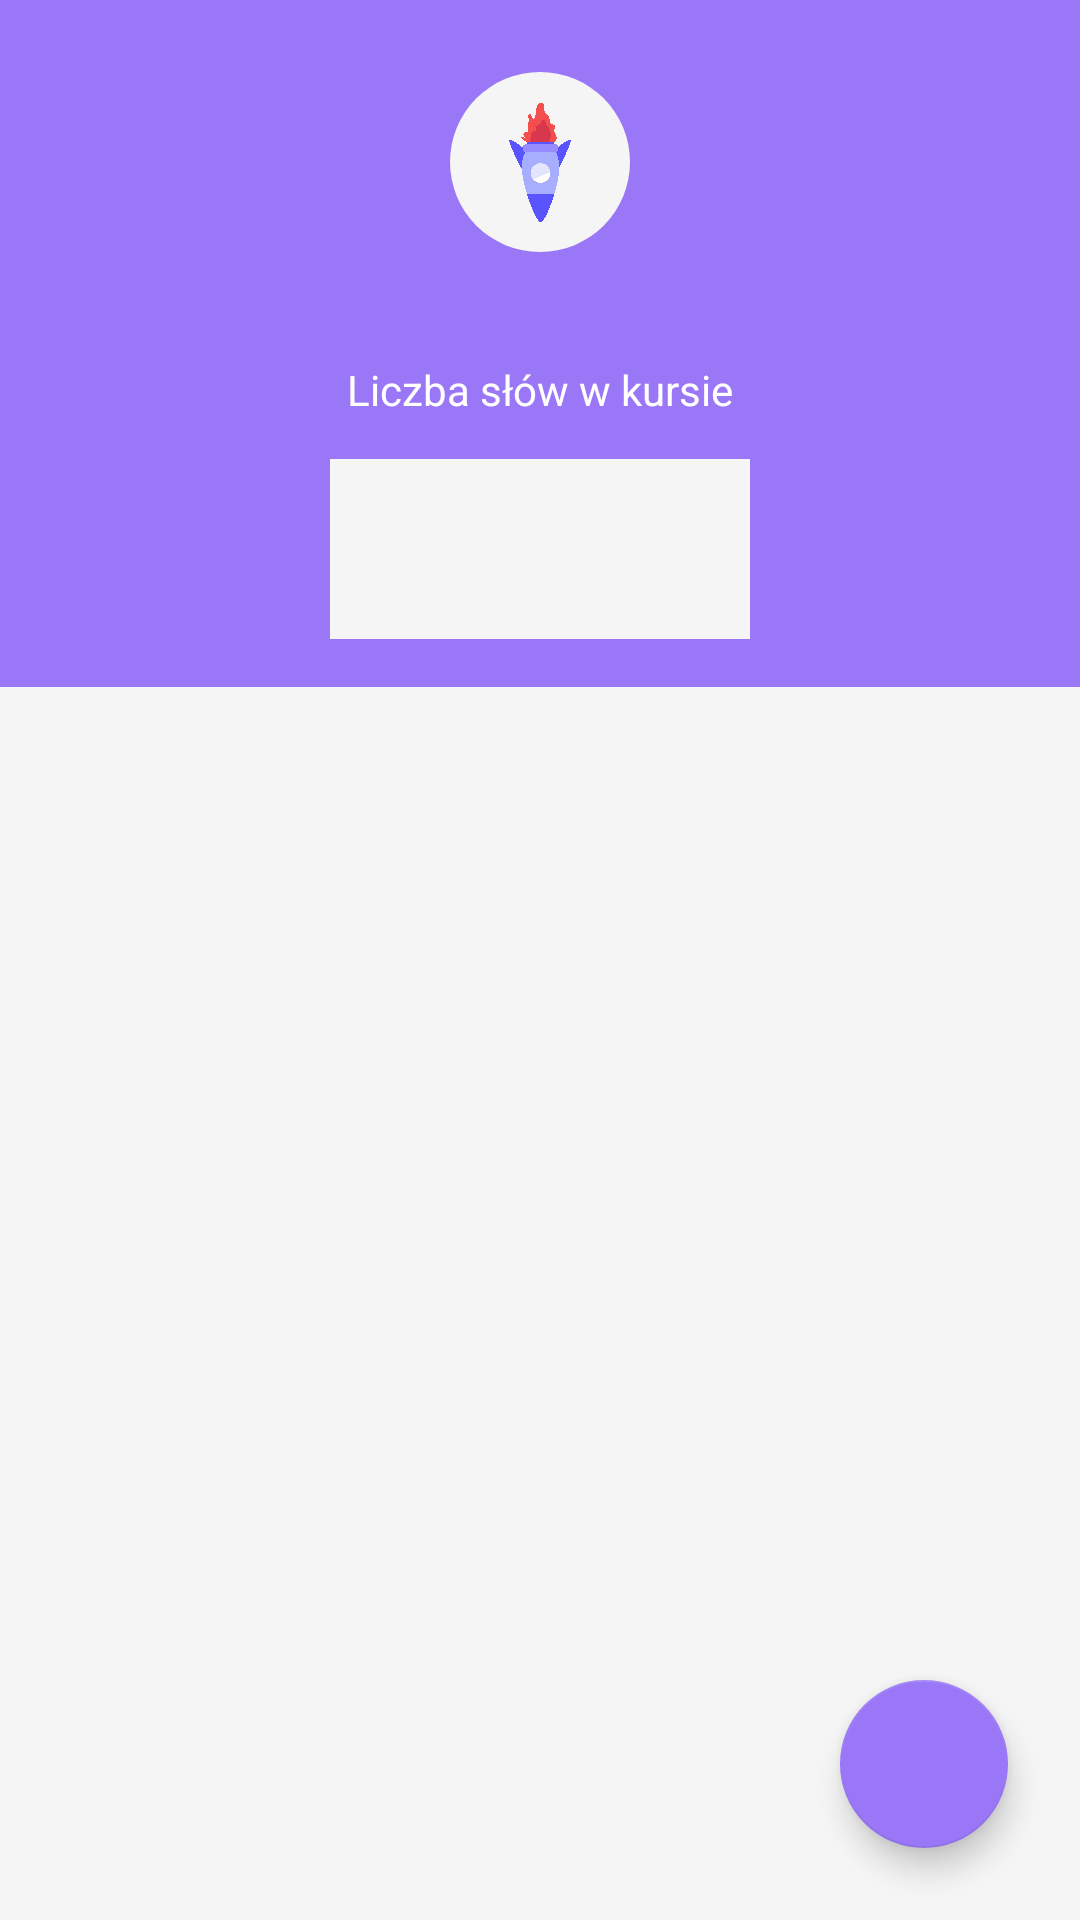

Named icons in this screenshot (1080*1920) and their centers, (x=x, y=y):
rakieta: (x=540, y=162)
